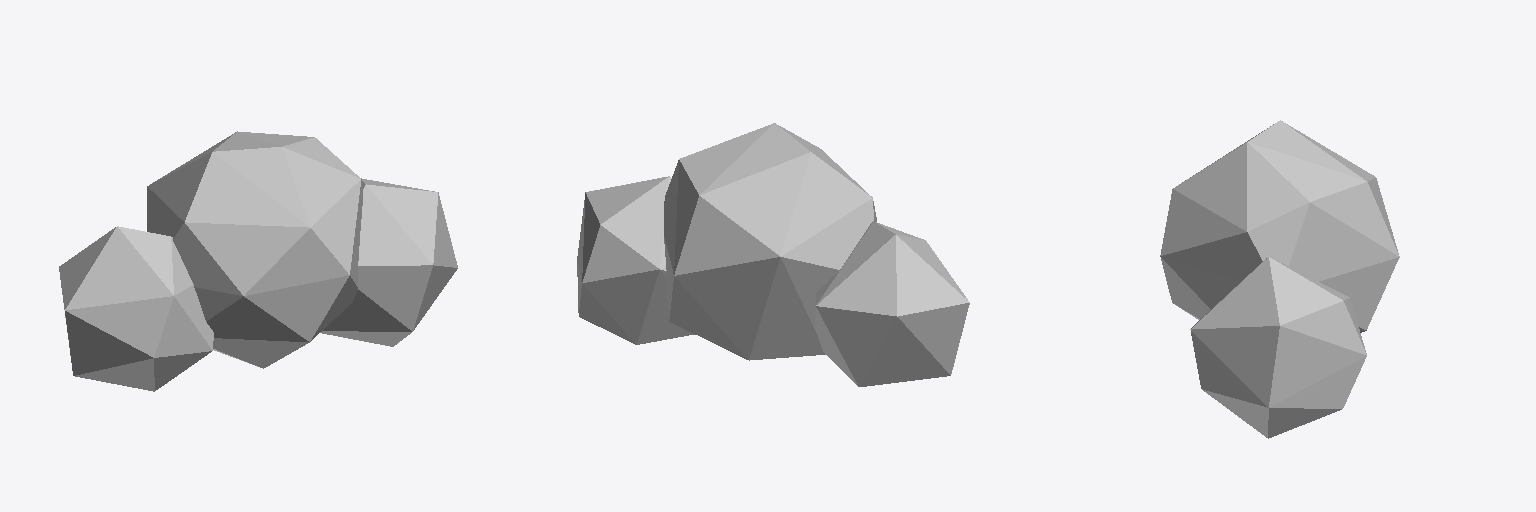
File: Cloud15.obj
3 views of the same model, side by side, from view 1: azimuth 30°, elevation 25°; view 2: azimuth 150°, elevation 25°; view 3: azimuth 270°, elevation 25° (orthographic).
Visible parts, largest first — view 1: Cloud15_Object_56_Object_26.001; view 2: Cloud15_Object_56_Object_26.001; view 3: Cloud15_Object_56_Object_26.001.
Part boxes in pixels (x1,y1,x2,y2): Cloud15_Object_56_Object_26.001: (59, 131, 457, 391); Cloud15_Object_56_Object_26.001: (577, 123, 969, 386); Cloud15_Object_56_Object_26.001: (1160, 120, 1399, 438).
Bounding box in the file's own units: 1.35 × 0.7803 × 0.7128.